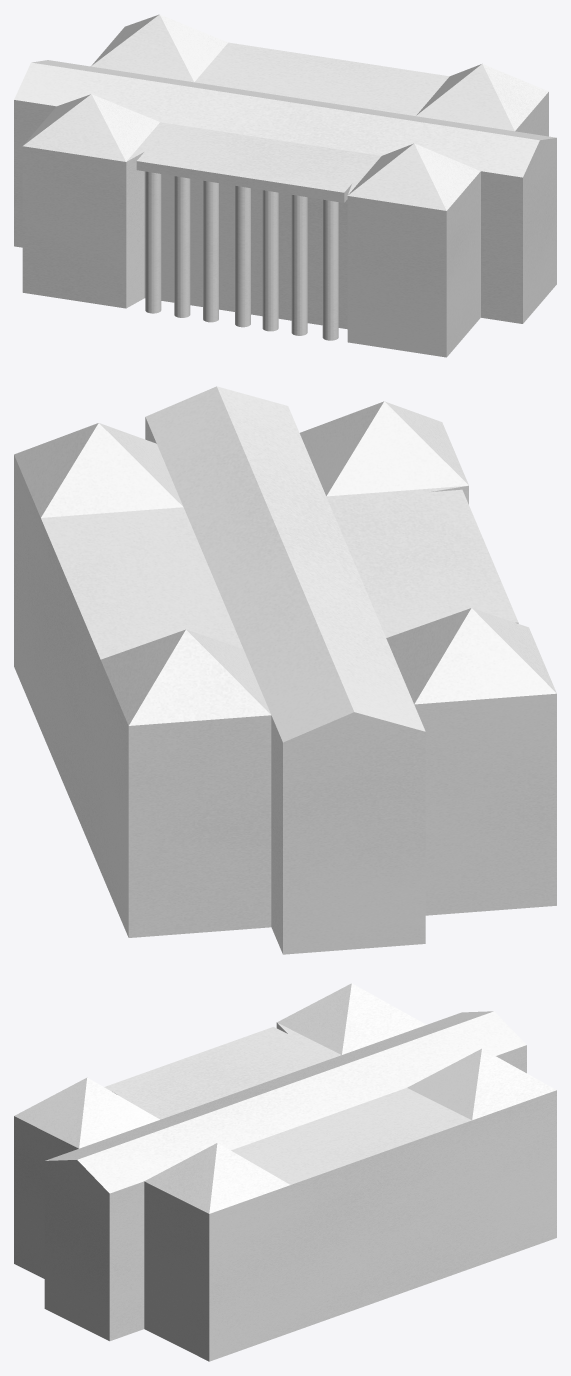
The model's file is CornelioSaavedra.gltf.
3 views of the same model, one above another, from view 1: azimuth 30°, elevation 25°; view 2: azimuth 150°, elevation 25°; view 3: azimuth 270°, elevation 25° (orthographic). The views are drawn at different scales.
Visible parts, largest first — view 1: CornelioSaavedra; view 2: CornelioSaavedra; view 3: CornelioSaavedra.
Part boxes in pixels (x1,y1,x2,y2): CornelioSaavedra: [14, 14, 556, 357]; CornelioSaavedra: [14, 386, 556, 954]; CornelioSaavedra: [14, 983, 556, 1361].
Size of the model in its own units: 1.61 by 0.6549 by 1.66.
1 material, 1 textured.
